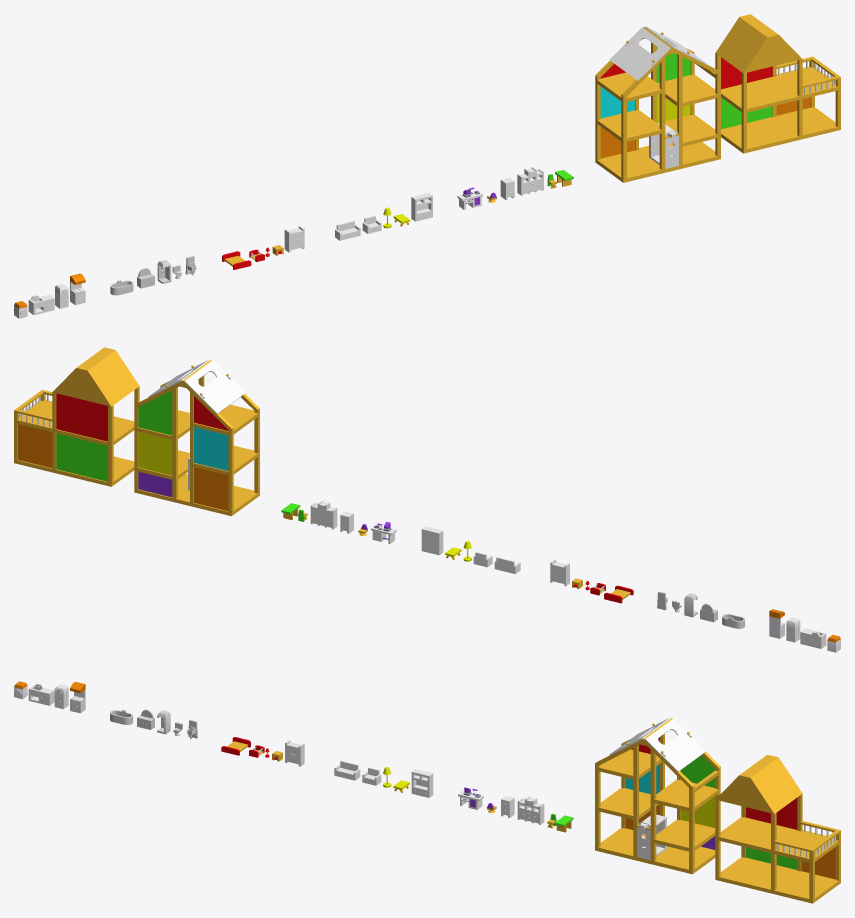
The model's file is DollsHouse_low.fbx.
3 views of the same model, one above another, from view 1: azimuth 30°, elevation 25°; view 2: azimuth 150°, elevation 25°; view 3: azimuth 330°, elevation 25° (orthographic).
Visible parts, largest first — view 1: DollsHouse_Frame_A_low, DollsHouse_Frame_B_low, DollsHouse_Roof_L_low; view 2: DollsHouse_Frame_A_low, DollsHouse_Frame_B_low, DollsHouse_Roof_L_low, DinningroomCabinet_low, LoungeCabinet_low; view 3: DollsHouse_Frame_B_low, DollsHouse_Frame_A_low, DollsHouse_Roof_R_low, DinningroomCabinet_low, LoungeCabinet_low.
Part boxes in pixels (x1,y1,x2,y2): DollsHouse_Frame_A_low: [595, 27, 720, 182]; DollsHouse_Frame_B_low: [715, 14, 840, 153]; DollsHouse_Roof_L_low: [609, 27, 670, 80]; DollsHouse_Frame_A_low: [134, 360, 259, 516]; DollsHouse_Frame_B_low: [14, 347, 139, 486]; DollsHouse_Roof_L_low: [184, 360, 245, 413]; DinningroomCabinet_low: [310, 500, 337, 529]; LoungeCabinet_low: [421, 526, 443, 555]; DollsHouse_Frame_B_low: [715, 754, 840, 903]; DollsHouse_Frame_A_low: [595, 718, 720, 874]; DollsHouse_Roof_R_low: [645, 718, 706, 771]; DinningroomCabinet_low: [517, 796, 544, 824]; LoungeCabinet_low: [411, 769, 433, 797].
Size of the model in its own units: 466 by 67.97 by 29.72.
